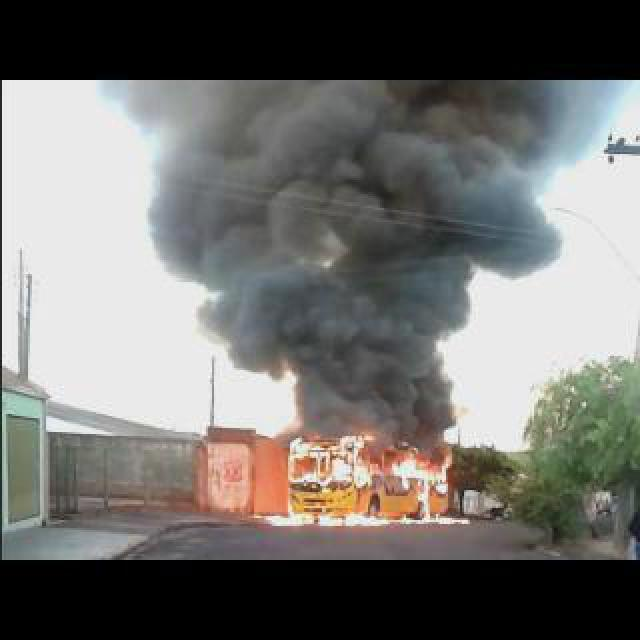fire: (268, 432, 466, 526)
smoke: (122, 76, 566, 430)
